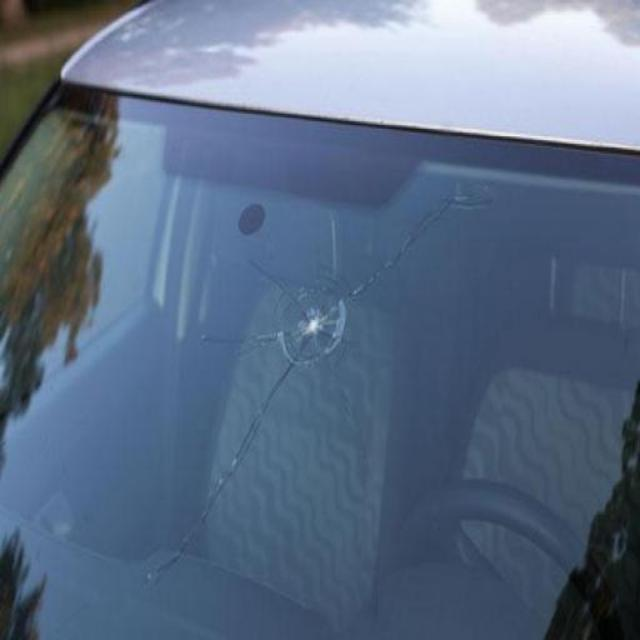glass shatter: (265, 269, 347, 364)
